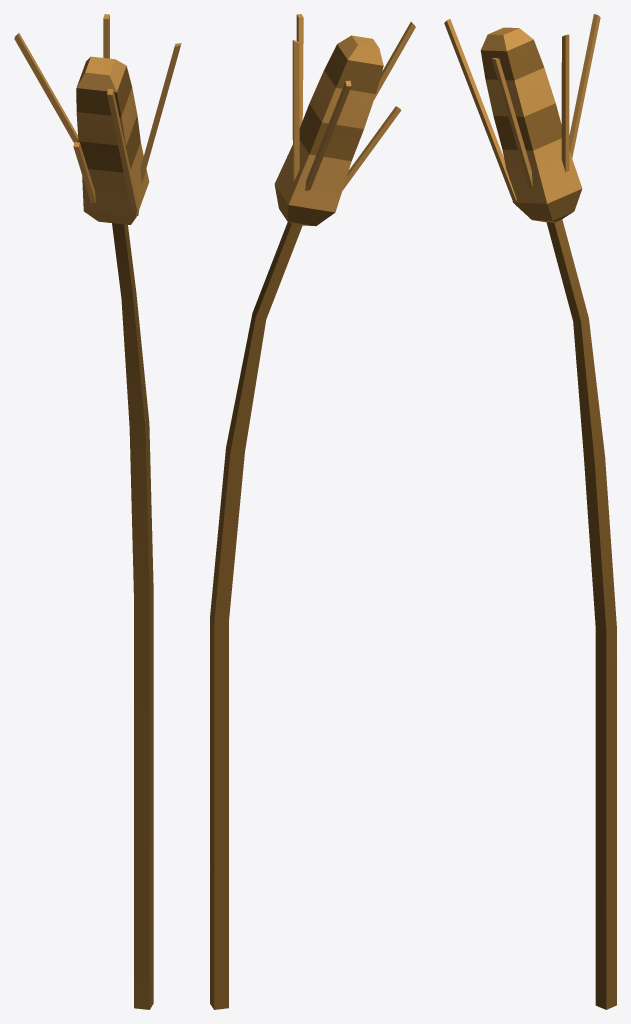
File: Wheat_Single Curved.fbx
3 renders of one model, left to right at view 1: azimuth 30°, elevation 25°; view 2: azimuth 150°, elevation 25°; view 3: azimuth 270°, elevation 25°, orthographic. The views are drawn at different scales.
Visible parts, largest first — view 1: pCube32; view 2: pCube32; view 3: pCube32.
Boxes of the visible parts, left/top/right/bottom form: pCube32: left=14, top=14, right=181, bottom=1009; pCube32: left=210, top=14, right=415, bottom=1009; pCube32: left=444, top=14, right=616, bottom=1009.
Size of the model in its own units: 0.0438 by 0.2952 by 0.0489.
